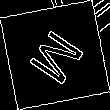M_SE: (21, 22, 89, 88)
